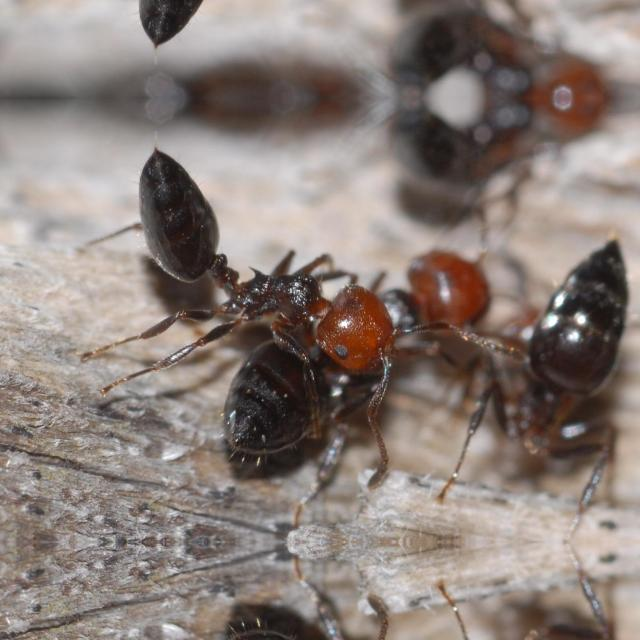Crematogaster: (198, 247, 522, 467), (104, 137, 393, 383), (483, 231, 639, 477), (104, 0, 393, 57)
